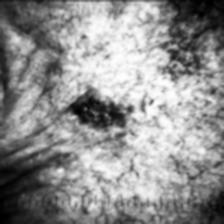Potentially Malignant Skin Tumors: (72, 92, 122, 127)
